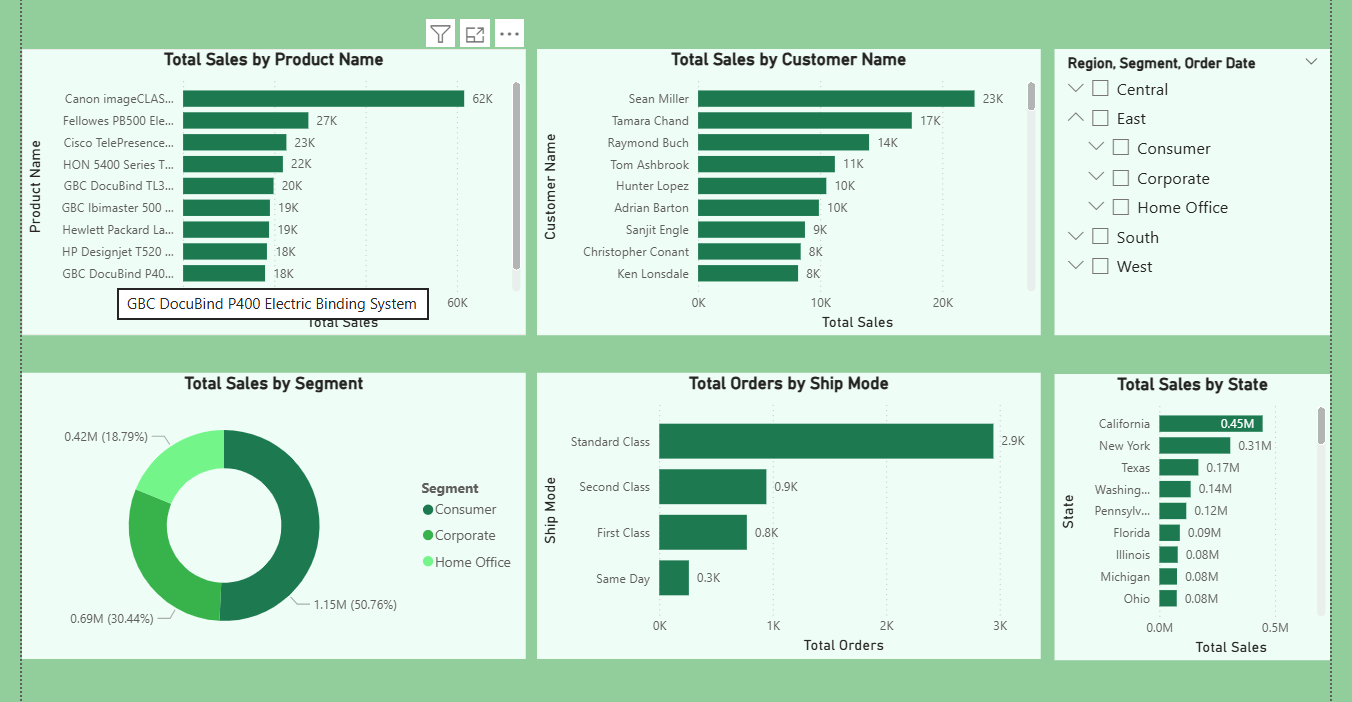

The dashboard page shown, as its layout file describes it:
{"tool":"powerbi","page":{"name":"Products and Customers","canvas":[1280,720],"ordinal":1},"visuals":[{"type":"clusteredBarChart","fields":{"Category":["train.Product Name"],"Y":["train.Total Sales"]},"box":[0,53.8,492.8,280],"z":0},{"type":"clusteredBarChart","fields":{"Y":["train.Total Sales"],"Category":["train.Customer Name"]},"box":[503.8,53.8,492.8,280],"z":1000},{"type":"donutChart","fields":{"Category":["train.Segment"],"Y":["train.Total Sales"]},"box":[0,370.5,492.8,280],"z":2000},{"type":"barChart","fields":{"Category":["train.Ship Mode"],"Y":["train.Total Order"]},"box":[503.8,370.5,492.8,280],"z":3000},{"type":"barChart","fields":{"Category":["train.State"],"Y":["train.Total Sales"]},"box":[1010.1,371.7,270.2,280],"z":4000},{"type":"slicer","fields":{"Values":["train.Region","train.Segment","train.Order Date"]},"box":[1010.1,53.8,270.2,280],"z":5000}]}

Visuals, with their boxes on the page's 1280x720 design canvas (x1, y1, x2, y2). These are canvas units, not pixel positions in the 1352x702 screenshot, which may show the page scaled, cropped or inside an application window:
clusteredBarChart - train.Product Name x train.Total Sales: [x1=0, y1=54, x2=493, y2=334]
clusteredBarChart - train.Total Sales x train.Customer Name: [x1=504, y1=54, x2=997, y2=334]
donutChart - train.Segment x train.Total Sales: [x1=0, y1=370, x2=493, y2=650]
barChart - train.Ship Mode x train.Total Order: [x1=504, y1=370, x2=997, y2=650]
barChart - train.State x train.Total Sales: [x1=1010, y1=372, x2=1280, y2=652]
slicer - train.Region x train.Segment: [x1=1010, y1=54, x2=1280, y2=334]
